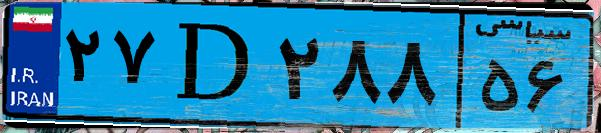2: (270, 28, 330, 110), (57, 26, 110, 100)
5: (475, 38, 525, 113)
6: (525, 38, 570, 115)
7: (110, 28, 158, 98)
8: (385, 28, 445, 110), (330, 28, 385, 110)
D: (158, 12, 270, 120)
